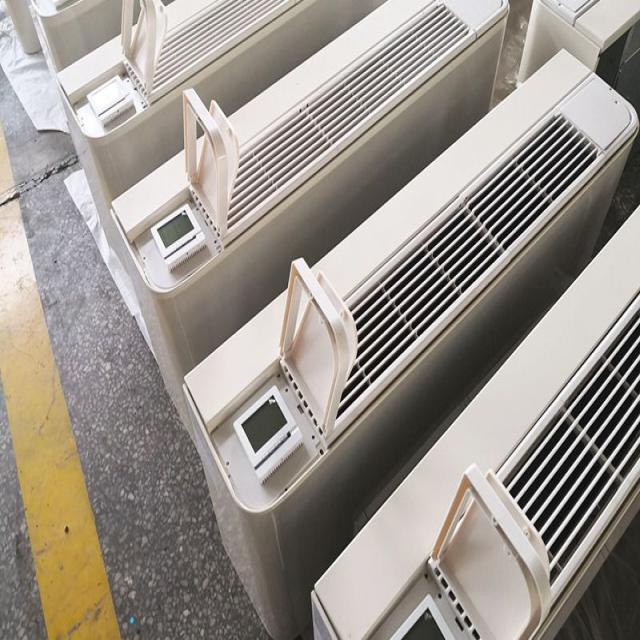appliances: (184, 52, 637, 635), (112, 0, 507, 424), (312, 211, 638, 638), (58, 0, 381, 245), (518, 0, 638, 108), (30, 0, 120, 71), (338, 597, 367, 635), (370, 610, 380, 622), (133, 0, 139, 19), (327, 587, 338, 597), (362, 597, 367, 603), (361, 569, 366, 573), (635, 145, 637, 148), (330, 616, 332, 618), (321, 588, 322, 591), (141, 0, 143, 1), (27, 0, 28, 1)
electronics: (367, 465, 549, 638), (121, 0, 299, 102), (518, 0, 638, 83), (234, 384, 301, 482), (150, 202, 205, 270), (390, 594, 454, 638), (150, 205, 200, 256), (87, 76, 134, 126), (6, 0, 40, 52), (312, 602, 341, 635), (51, 0, 69, 7), (352, 538, 357, 542)
